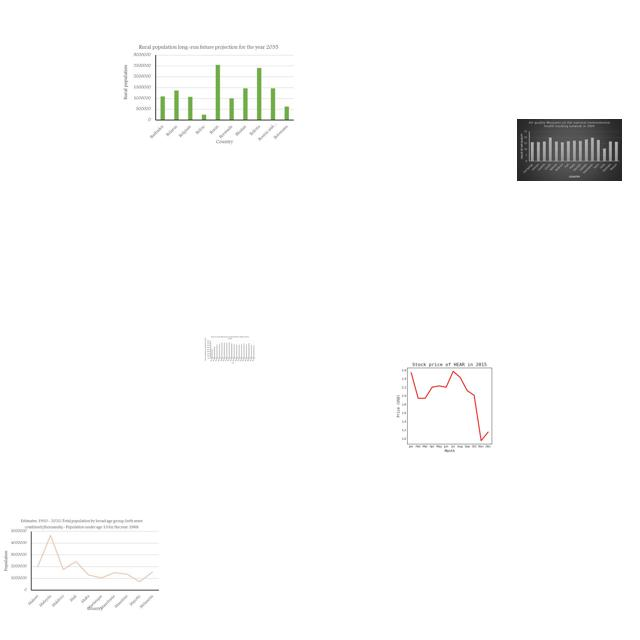Graph: (120, 43, 297, 145), (2, 517, 161, 612), (382, 356, 514, 455), (517, 119, 622, 181), (204, 335, 256, 364)
